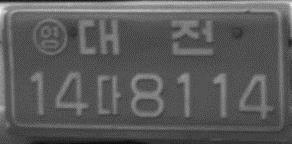1: (211, 70, 231, 120), (174, 71, 194, 118), (28, 69, 47, 116)
4: (236, 72, 276, 120), (53, 69, 88, 118)
8: (128, 72, 166, 119)
다: (94, 72, 123, 116)
대전_D: (75, 15, 216, 57)
영: (31, 17, 68, 55)
